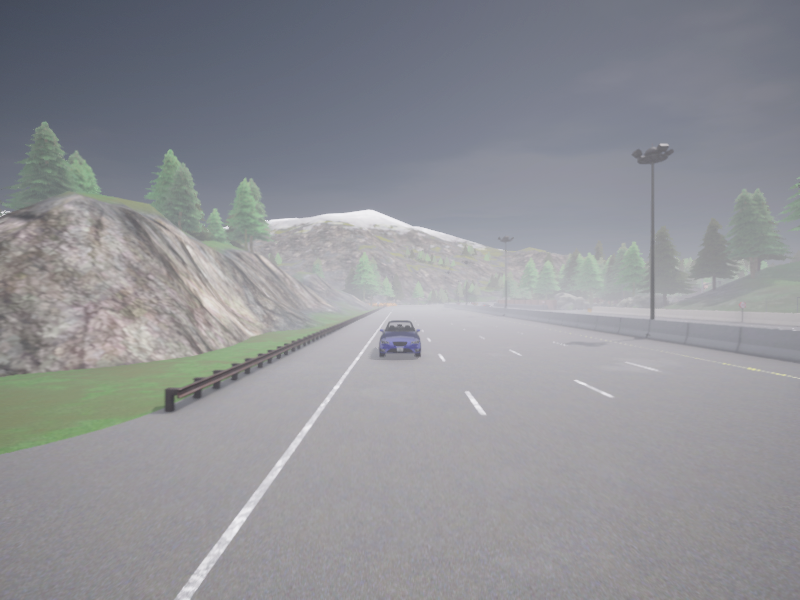vehicle: (379, 320, 420, 357), (480, 303, 488, 306), (474, 302, 478, 305), (471, 302, 474, 304), (456, 302, 459, 303)
